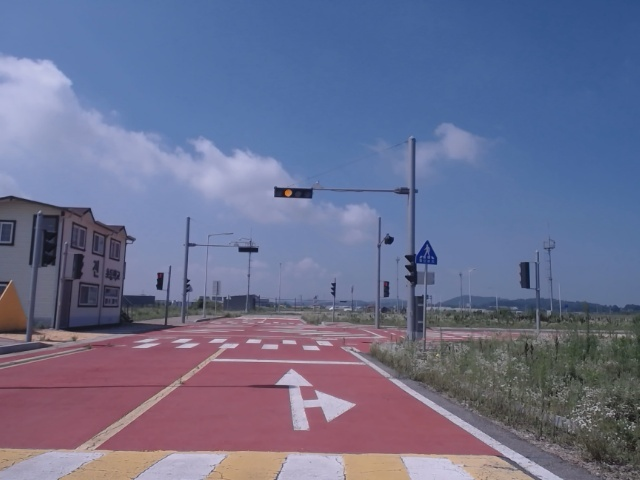orange_4: (275, 187, 314, 200)
